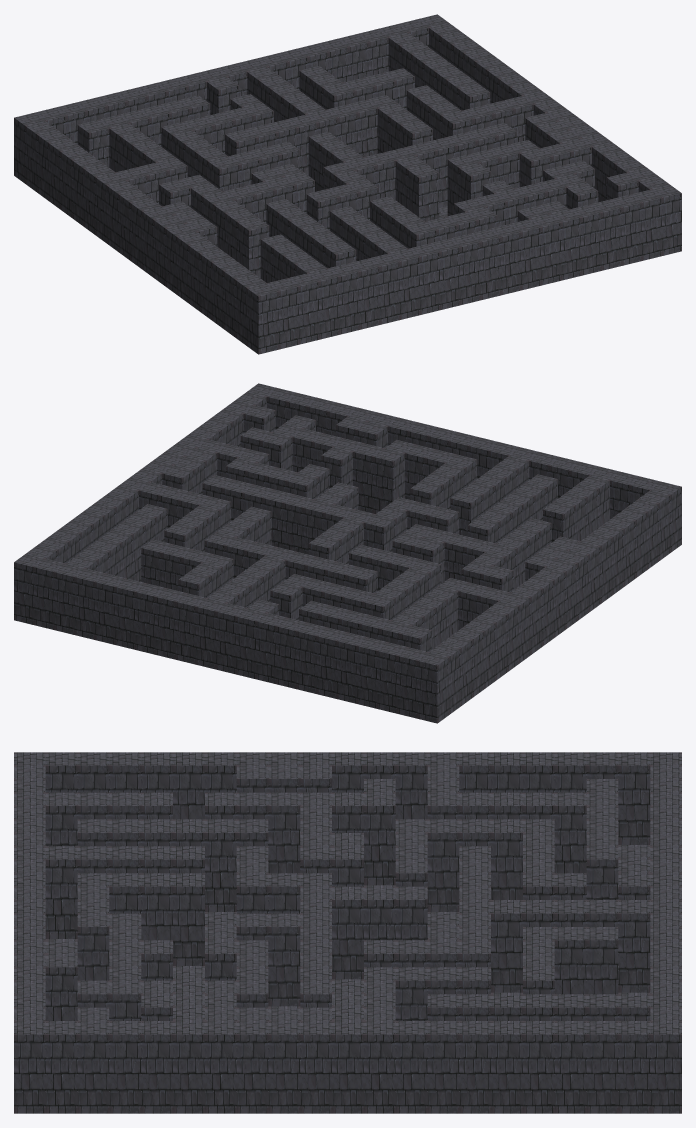
The model's file is dungeon.fbx.
3 renders of one model, top to bottom at view 1: azimuth 30°, elevation 25°; view 2: azimuth 150°, elevation 25°; view 3: azimuth 270°, elevation 25°, orthographic. The views are drawn at different scales.
Visible parts, largest first — view 1: Plane; view 2: Plane; view 3: Plane.
Part boxes in pixels (bbox=[...]): Plane: bbox=[14, 14, 681, 354]; Plane: bbox=[14, 383, 681, 723]; Plane: bbox=[14, 752, 681, 1113].
Bounding box in the file's own units: 1045 × 137 × 1045.
